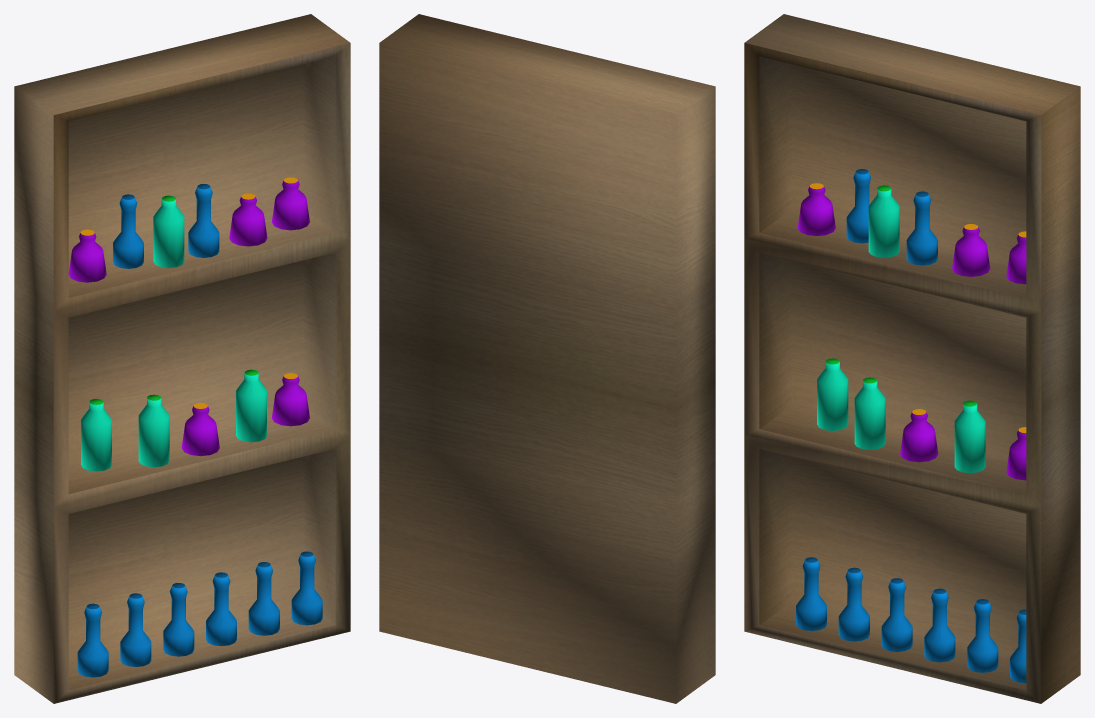
Rendered from 櫃子&裝飾品.FBX.
3 views of the same model, side by side, from view 1: azimuth 30°, elevation 25°; view 2: azimuth 150°, elevation 25°; view 3: azimuth 330°, elevation 25° (orthographic).
Visible parts, largest first — view 1: Box015; view 2: Box015; view 3: Box015.
Boxes of the visible parts, left/top/right/bottom form: Box015: left=14, top=14, right=350, bottom=703; Box015: left=379, top=14, right=715, bottom=703; Box015: left=744, top=14, right=1080, bottom=703.
Bounding box in the file's own units: 126 × 239 × 29.01.
Materials: 1 (1 with a texture image).
